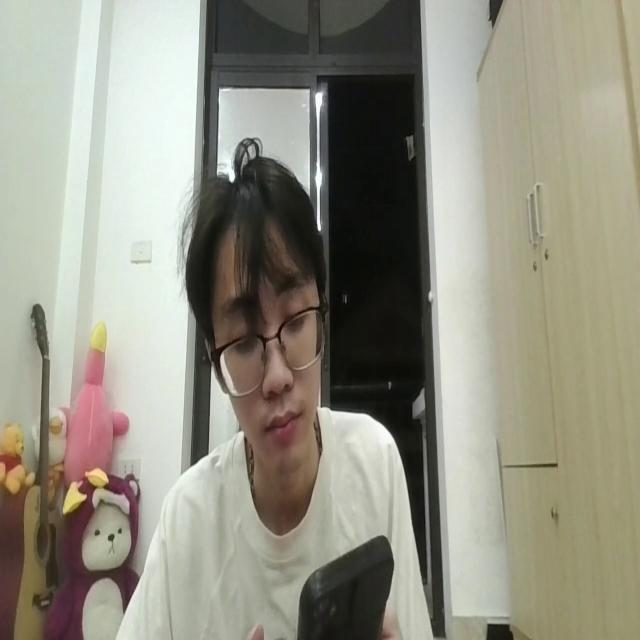phone: (292, 526, 395, 640)
student: (122, 143, 434, 640)
